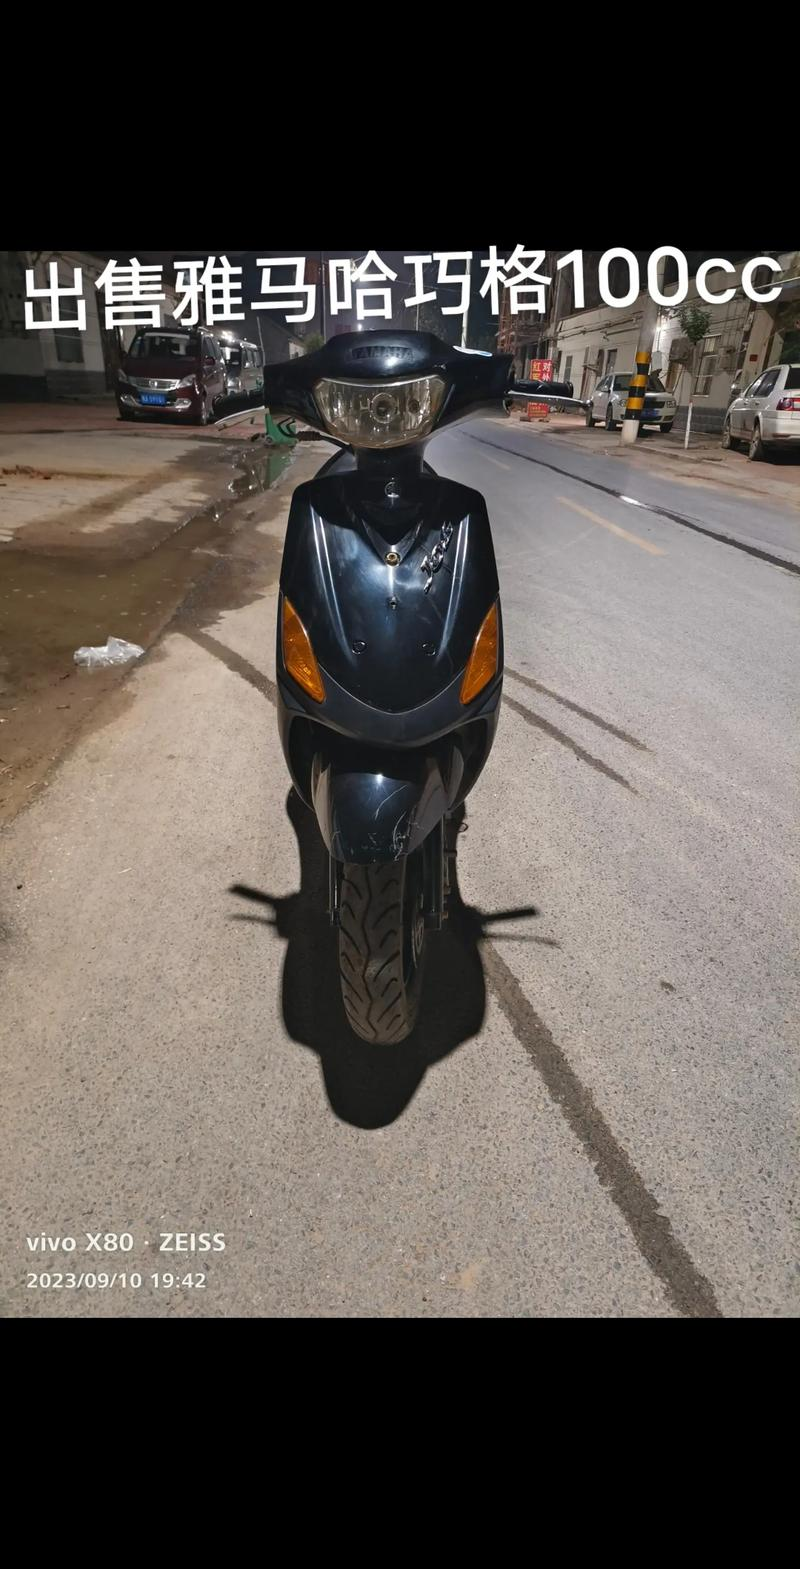摩托车: (229, 336, 563, 1131)
